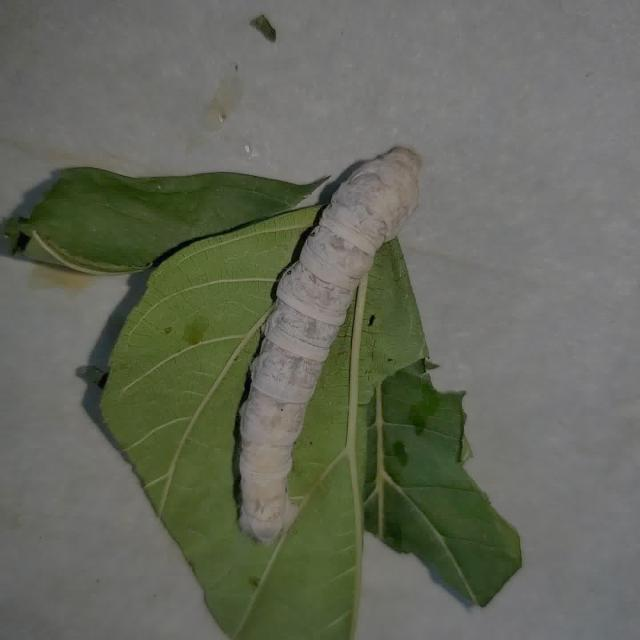Grasserie: (220, 131, 448, 564)
